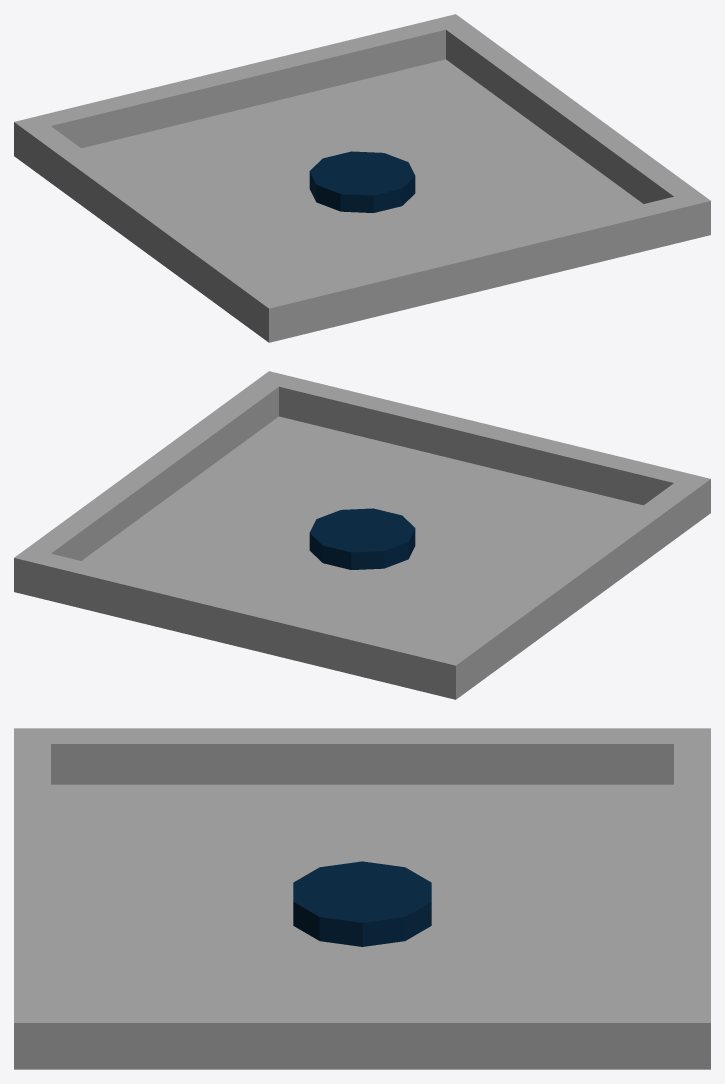
The model's file is O_Interactive_LiftBotom.fbx.
3 views of the same model, one above another, from view 1: azimuth 30°, elevation 25°; view 2: azimuth 150°, elevation 25°; view 3: azimuth 270°, elevation 25° (orthographic). The views are drawn at different scales.
Visible parts, largest first — view 1: pCylinder12; view 2: pCylinder12; view 3: pCylinder12.
Boxes of the visible parts, left/top/right/bottom form: pCylinder12: left=14, top=14, right=710, bottom=342; pCylinder12: left=14, top=371, right=710, bottom=699; pCylinder12: left=14, top=728, right=710, bottom=1069.
Bounding box in the file's own units: 2.27 × 0.1677 × 2.27.
